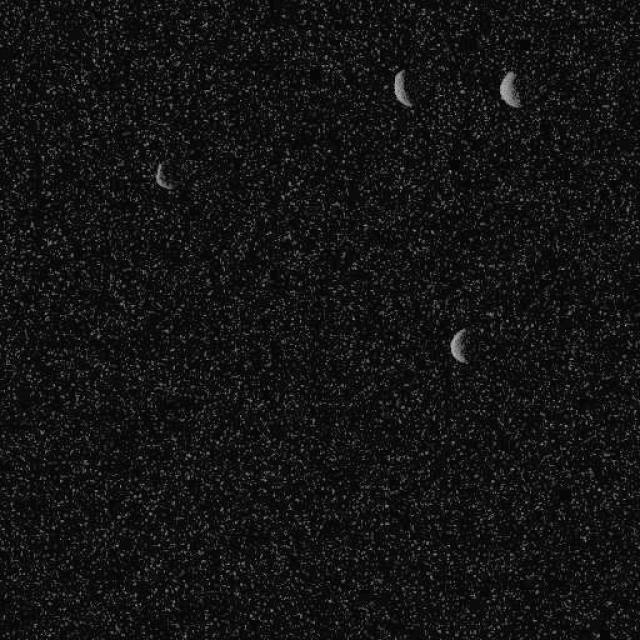D2: (498, 69, 522, 109), (392, 68, 412, 108), (449, 326, 470, 364), (154, 159, 178, 190)
